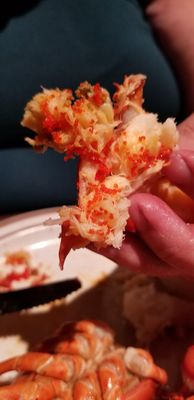sandwich: (20, 74, 180, 262)
